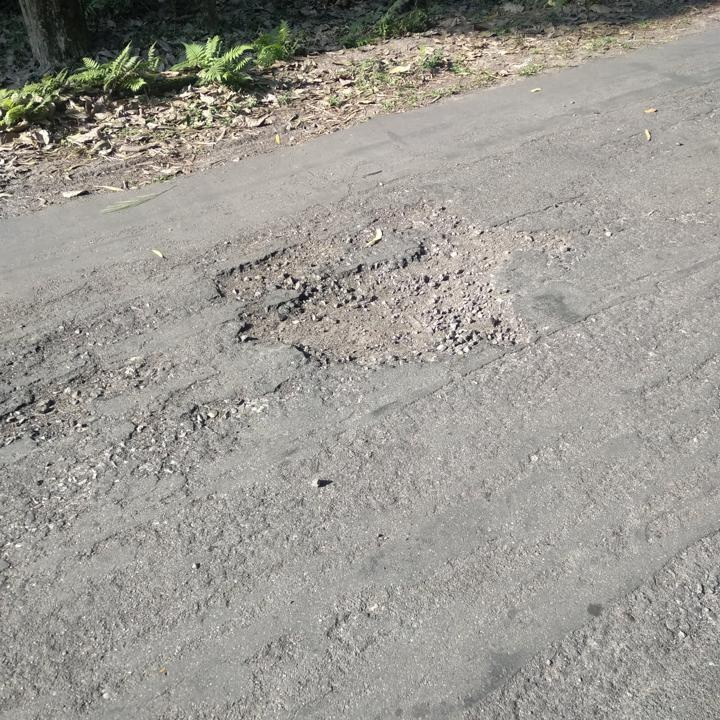pothole: (208, 197, 581, 373)
